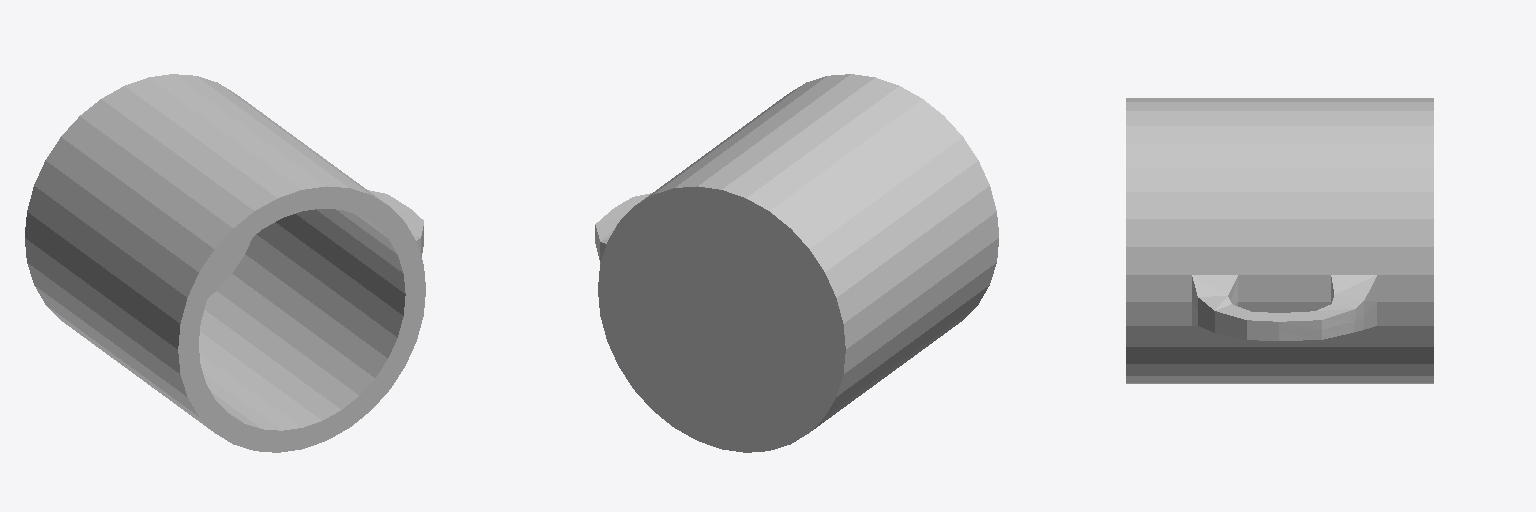
The model's file is mug.obj.
The picture shows the model from 3 angles: view 1: azimuth 30°, elevation 25°; view 2: azimuth 150°, elevation 25°; view 3: azimuth 270°, elevation 25°; orthographic projection.
Visible parts, largest first — view 1: mug_Cylinder.002; view 2: mug_Cylinder.002; view 3: mug_Cylinder.002.
Boxes of the visible parts, x1,y1,x2,y2 form: mug_Cylinder.002: [25, 74, 425, 452]; mug_Cylinder.002: [595, 74, 998, 452]; mug_Cylinder.002: [1126, 98, 1433, 383].
Size of the model in its own units: 0.118 by 0.0946 by 0.1014.